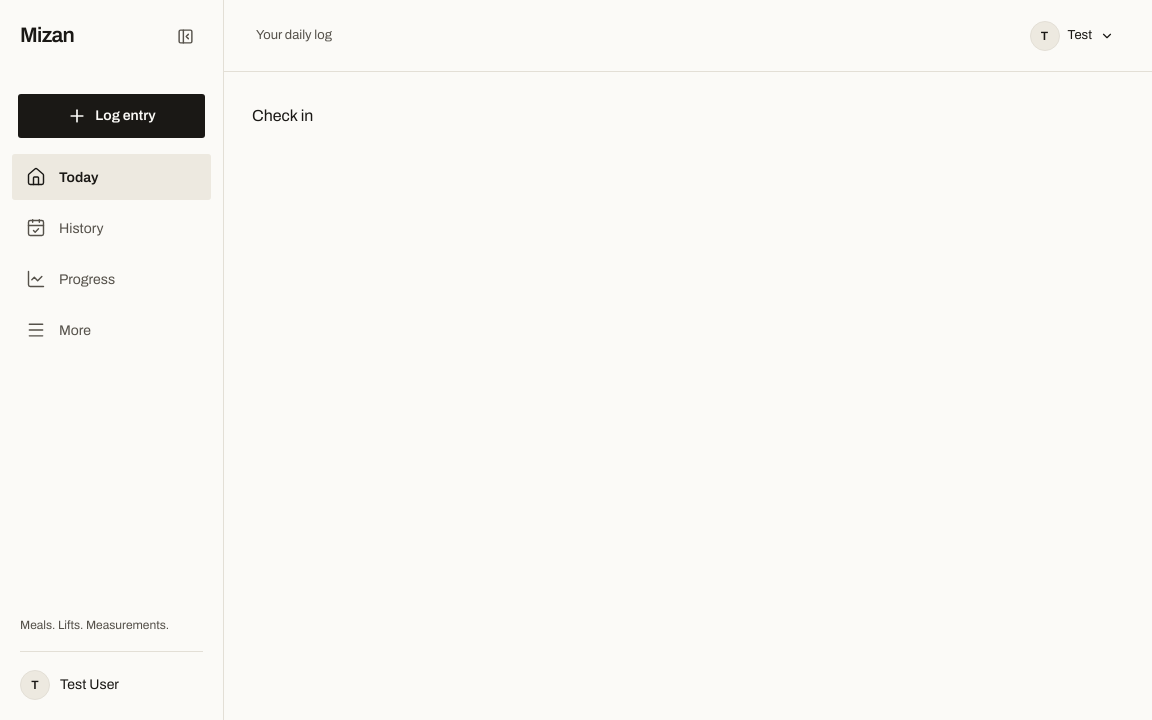
it: global logging date context › uses the latest Today route when an event omits its date
Click the button "Check in": (283, 116) [252,104,313,128]
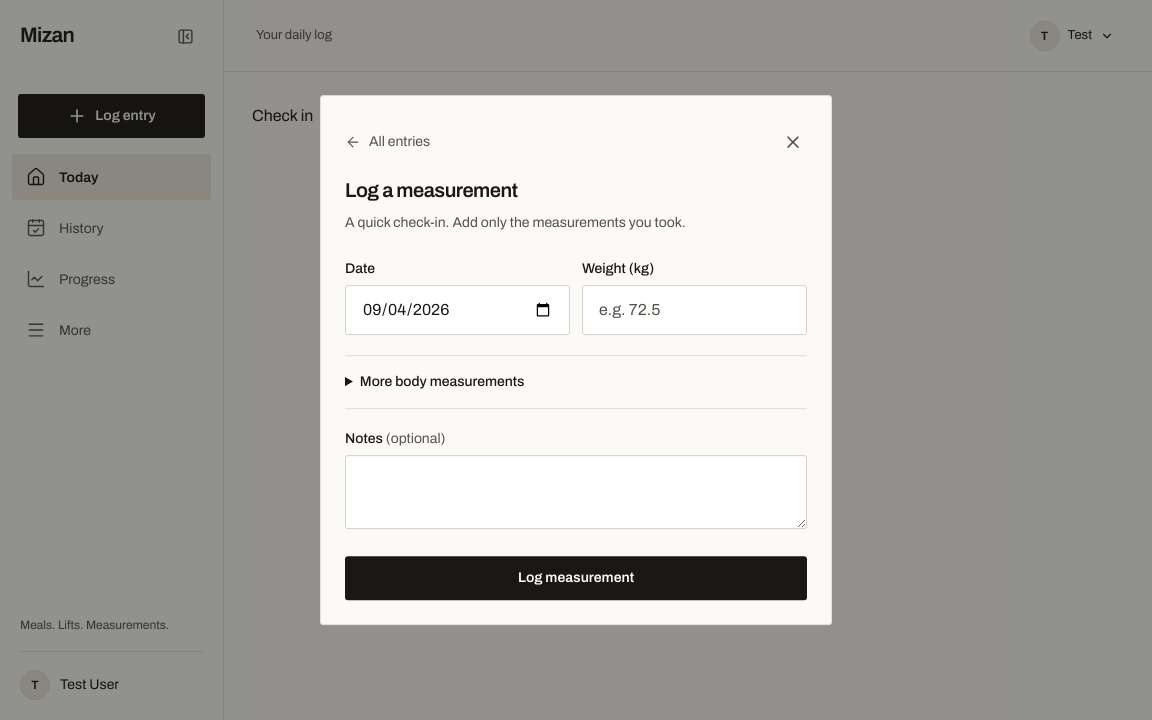
Expected: the date field labelled "Date" holds "2026-09-04", [345,285,570,335]
